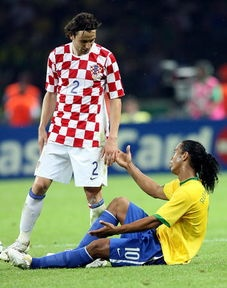falling: (6, 130, 217, 270)
